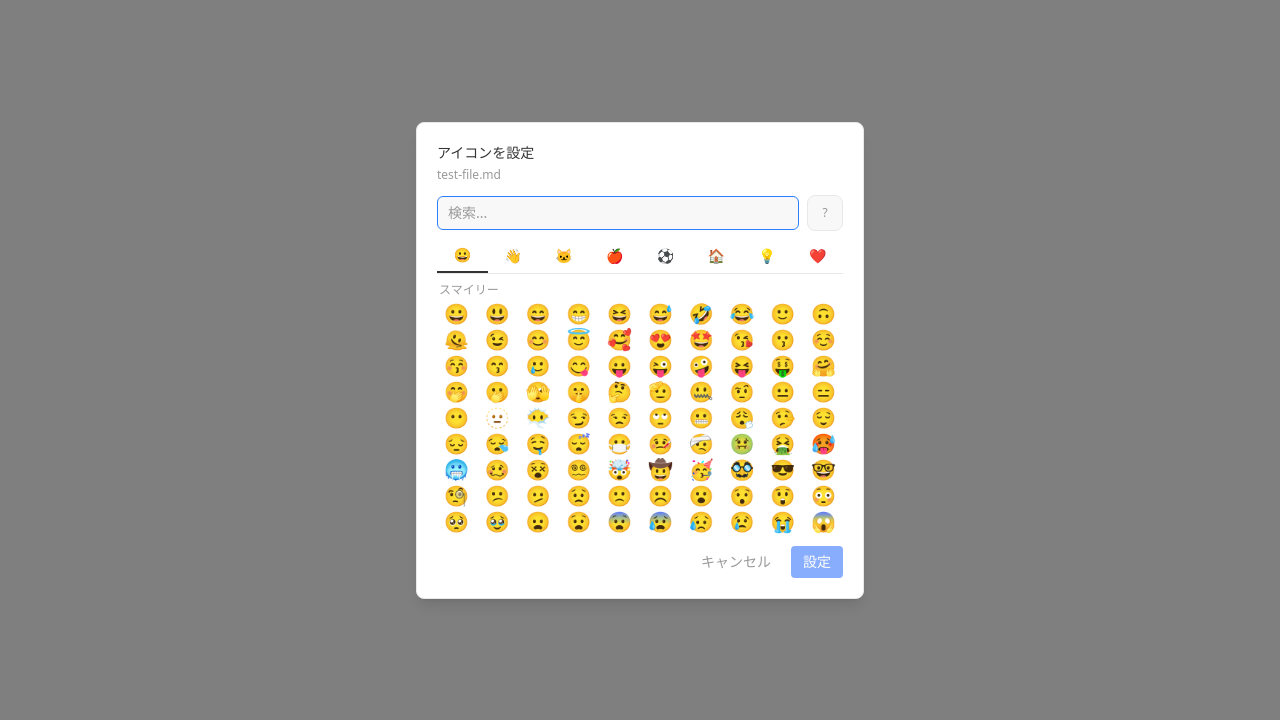
Test case: EmojiInputDialog › 検索で見つからない場合はメッセージを表示
The width and height of the screenshot is (1280, 720).
Type "xyznotfound" into the field named "絵文字を検索". click: (618,212)
box: [437, 196, 799, 230]
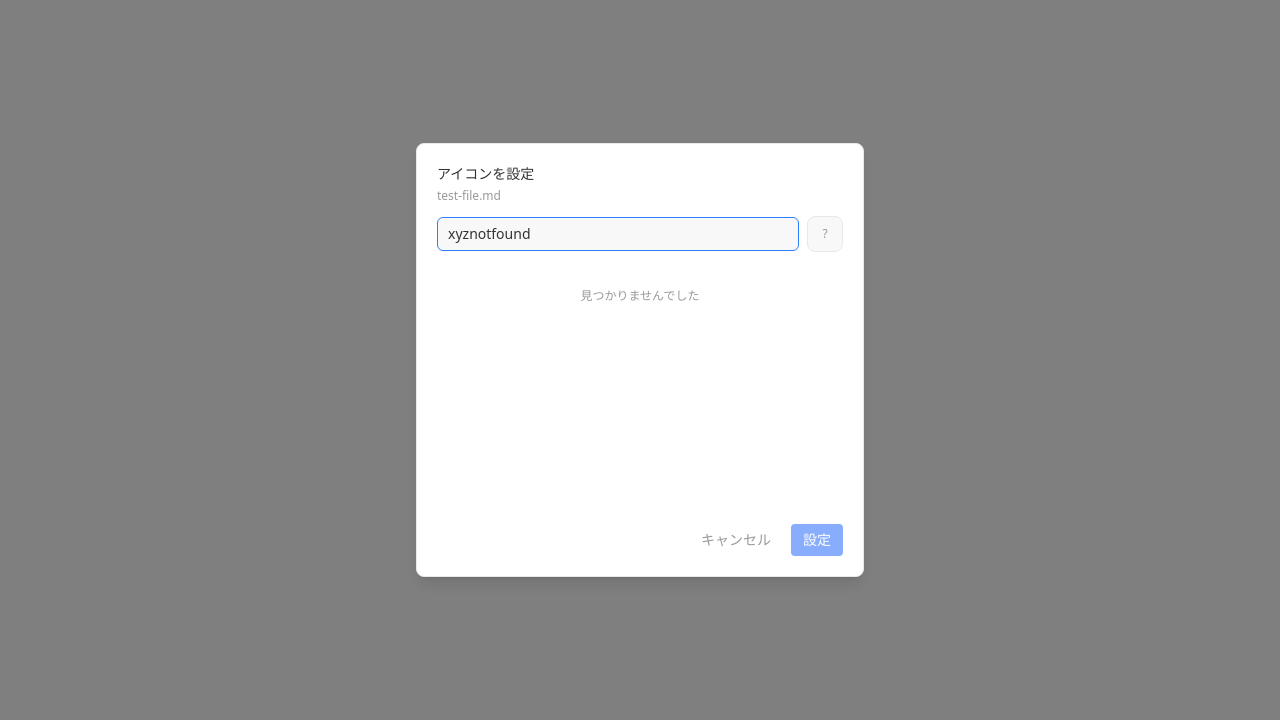
Expected: the text "見つかりませんでした" is shown, [580, 287, 700, 304]
